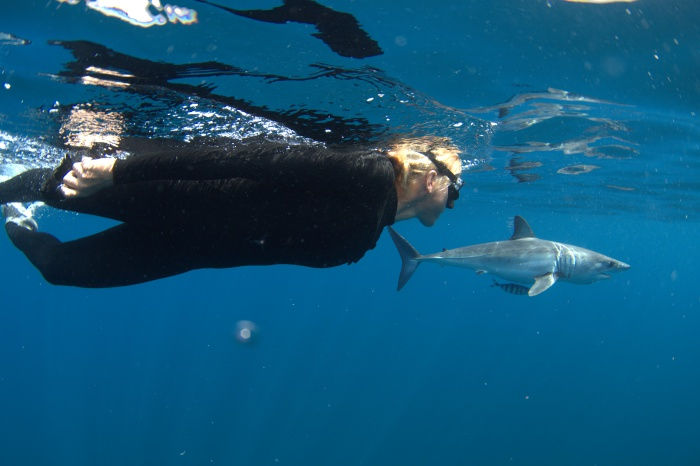Mako: (370, 210, 654, 313)
